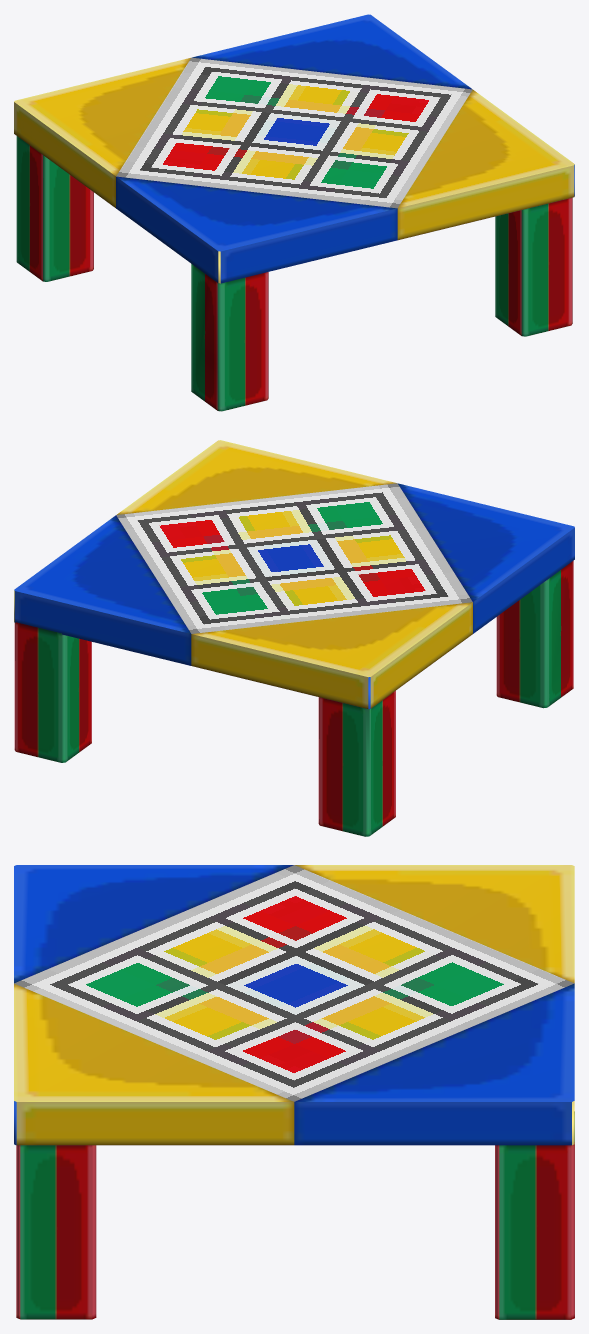
File: rmk_col_tableL.dae
3 renders of one model, top to bottom at view 1: azimuth 30°, elevation 25°; view 2: azimuth 150°, elevation 25°; view 3: azimuth 270°, elevation 25°, orthographic. The views are drawn at different scales.
Parts seen in each view (by area): view 1: rmk_col_tableL; view 2: rmk_col_tableL; view 3: rmk_col_tableL.
Part boxes in pixels (bbox=[...]): rmk_col_tableL: bbox=[14, 14, 574, 411]; rmk_col_tableL: bbox=[14, 440, 574, 836]; rmk_col_tableL: bbox=[14, 865, 574, 1319].
Size of the model in its own units: 56 by 24.07 by 56.05.
Materials: 2 (2 with a texture image).
